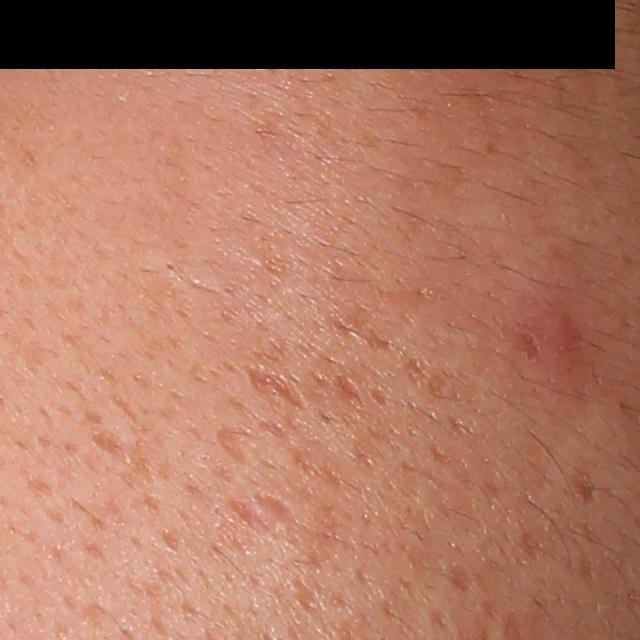atrophic_scar: (88, 431, 151, 487), (248, 362, 301, 408), (216, 424, 248, 464), (258, 495, 297, 526)
